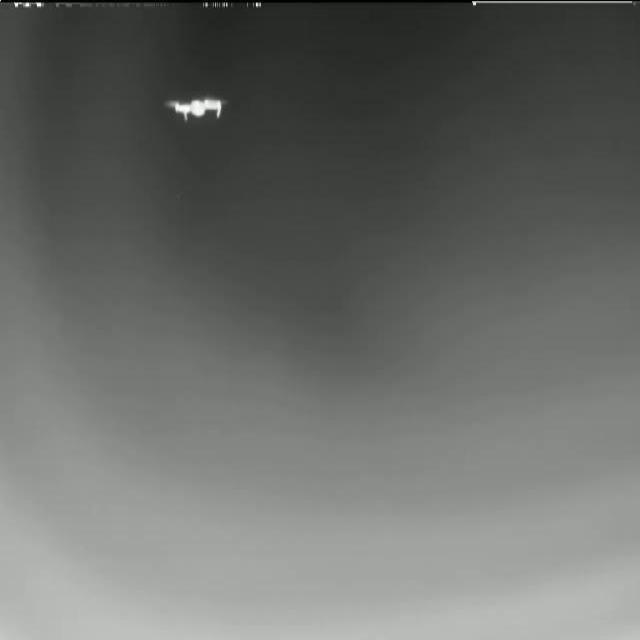DRONE: (162, 93, 226, 123)
